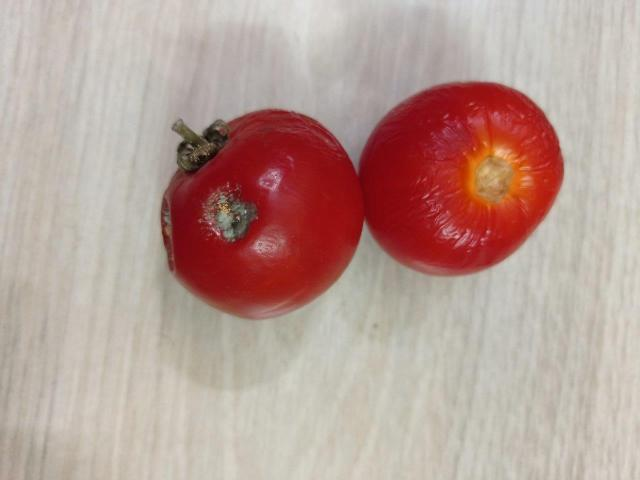defect: (153, 103, 368, 322)
